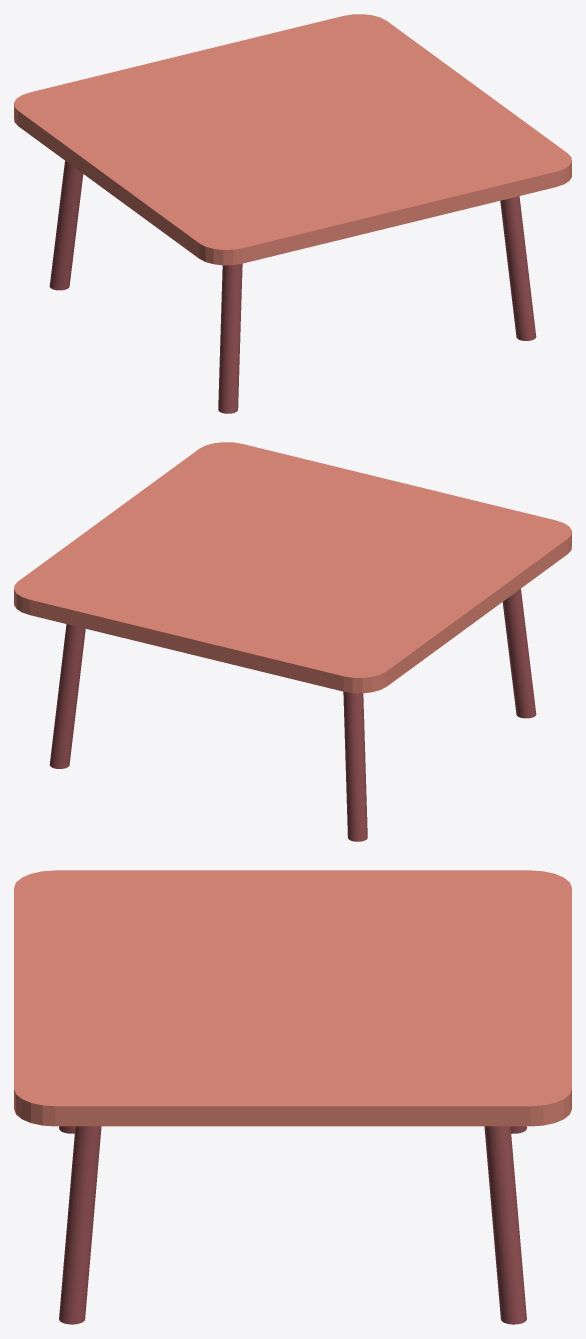
The model's file is tyabudai.fbx.
The picture shows the model from 3 angles, top to bottom: view 1: azimuth 30°, elevation 25°; view 2: azimuth 150°, elevation 25°; view 3: azimuth 270°, elevation 25°; orthographic projection. The views are drawn at different scales.
Parts seen in each view (by area): view 1: 立方体, 円柱; view 2: 立方体, 円柱; view 3: 立方体, 円柱.
Part boxes in pixels (x1,y1,x2,y2): 立方体: [14, 14, 571, 265]; 円柱: [49, 161, 536, 413]; 立方体: [14, 442, 571, 693]; 円柱: [49, 589, 536, 841]; 立方体: [14, 870, 571, 1126]; 円柱: [59, 1126, 526, 1324].
Bounding box in the file's own units: 100 × 46.53 × 100.
